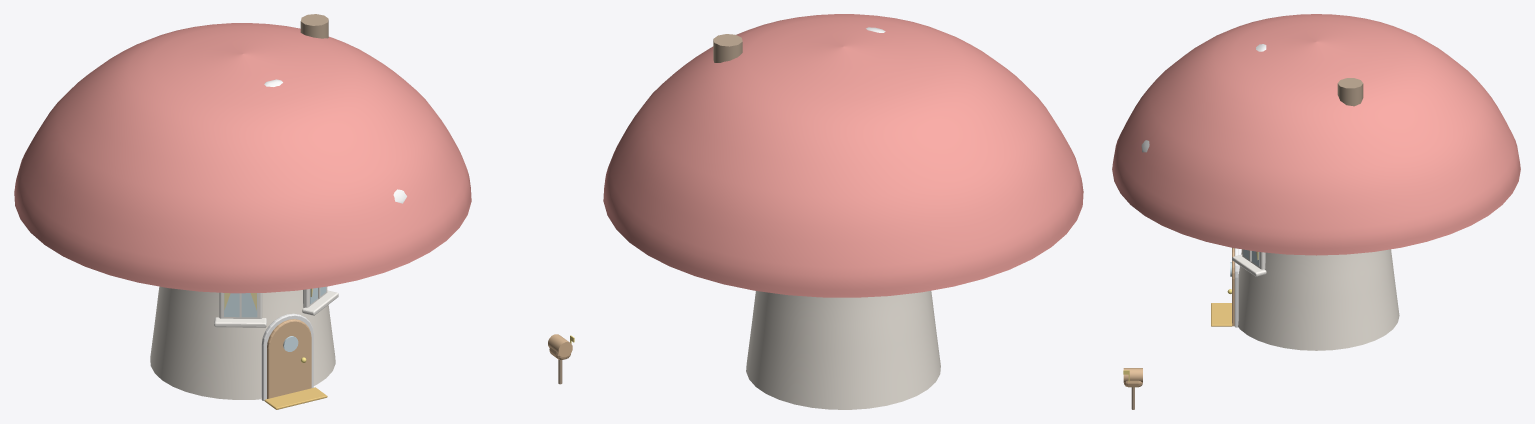
File: building_forest_L06.glb
The picture shows the model from 3 angles, left to right: view 1: azimuth 30°, elevation 25°; view 2: azimuth 150°, elevation 25°; view 3: azimuth 270°, elevation 25°; orthographic projection. The views are drawn at different scales.
Visible parts, largest first — view 1: Body, forest_L6; view 2: Body; view 3: Body, forest_L6.
Part boxes in pixels (box(x1,y1,x2,y2)): Body: box(14, 14, 471, 409); forest_L6: box(548, 334, 574, 384); Body: box(603, 14, 1083, 409); Body: box(1112, 14, 1520, 350); forest_L6: box(1123, 368, 1142, 409).
Size of the model in its own units: 20.43 by 14.26 by 19.2.
